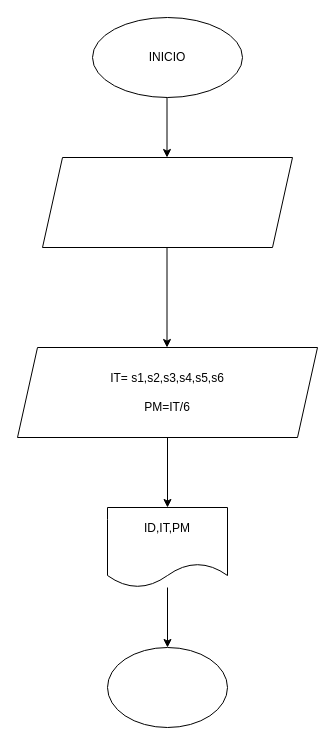
The diagram is 335 pixels wide and 745 high, and some of its shapes have lost their labels. The shapes that lost their labels are listed below. From the top down, each one's centre as x and y in pixels, then its label:
At (167,202): "ID= 01,02,03,04,05,06".
At (167,687): "Final".
